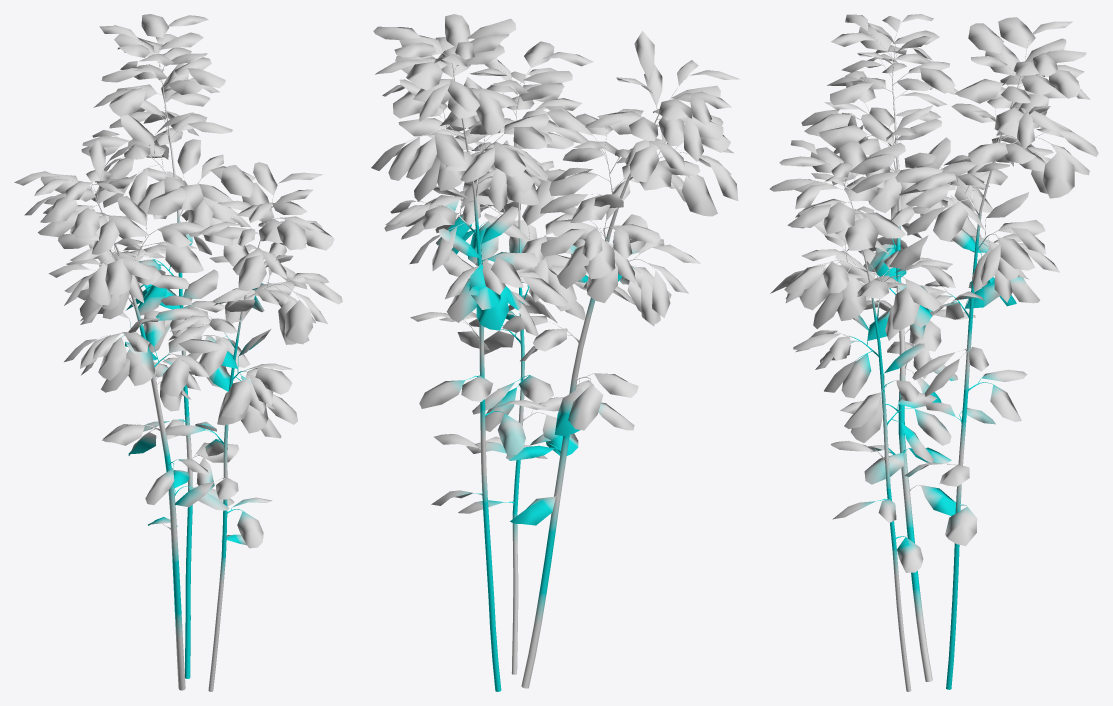
Rendered from Bamboo_2.fbx.
The picture shows the model from 3 angles, left to right: view 1: azimuth 30°, elevation 25°; view 2: azimuth 150°, elevation 25°; view 3: azimuth 270°, elevation 25°; orthographic projection. The views are drawn at different scales.
Visible parts, largest first — view 1: Bamboo_2; view 2: Bamboo_2; view 3: Bamboo_2.
Part boxes in pixels (x1,y1,x2,y2): Bamboo_2: [14, 14, 342, 691]; Bamboo_2: [371, 14, 739, 691]; Bamboo_2: [769, 14, 1098, 691].
Size of the model in its own units: 382 by 814 by 370.
